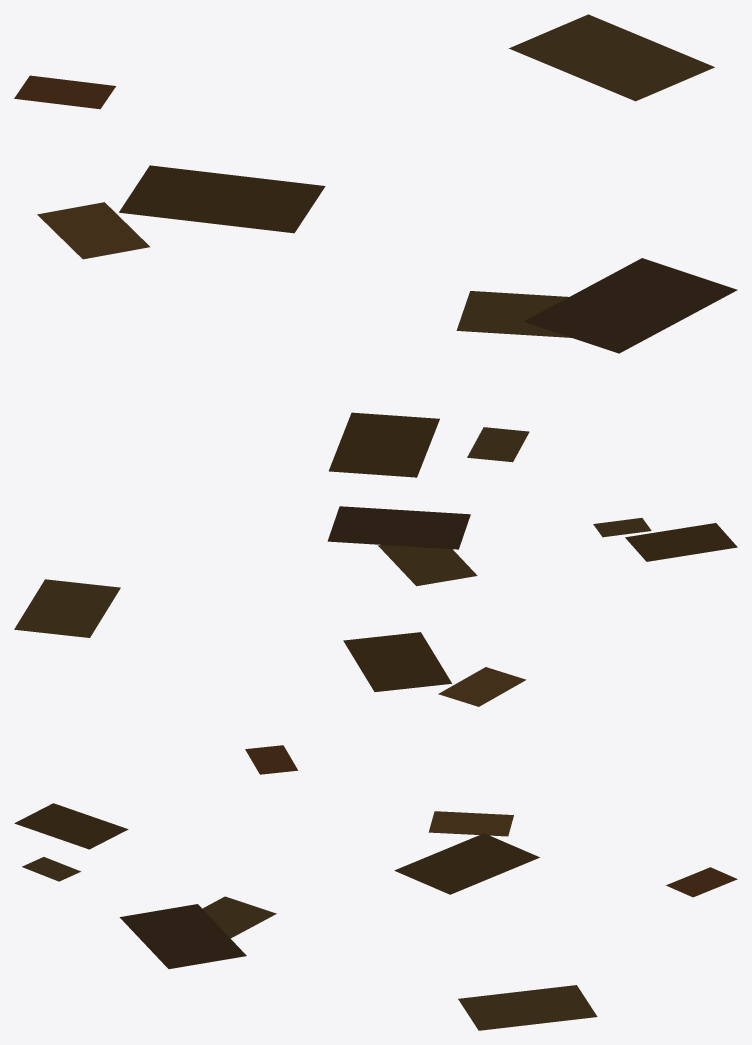
File: GroundCover_ForestLeaves_01.glb
3 renders of one model, top to bottom at view 1: azimuth 30°, elevation 25°; view 2: azimuth 150°, elevation 25°; view 3: azimuth 270°, elevation 25°, orthographic. The views are drawn at different scales.
Visible parts, largest first — view 1: GroundCover_ForestLeaves_01; view 2: GroundCover_ForestLeaves_01; view 3: GroundCover_ForestLeaves_01.
Part boxes in pixels (x1,y1,x2,y2): GroundCover_ForestLeaves_01: (14, 14, 737, 477); GroundCover_ForestLeaves_01: (14, 506, 737, 774); GroundCover_ForestLeaves_01: (14, 803, 737, 1030).
Size of the model in its own units: 0.3613 by 0.0119 by 0.4717.
